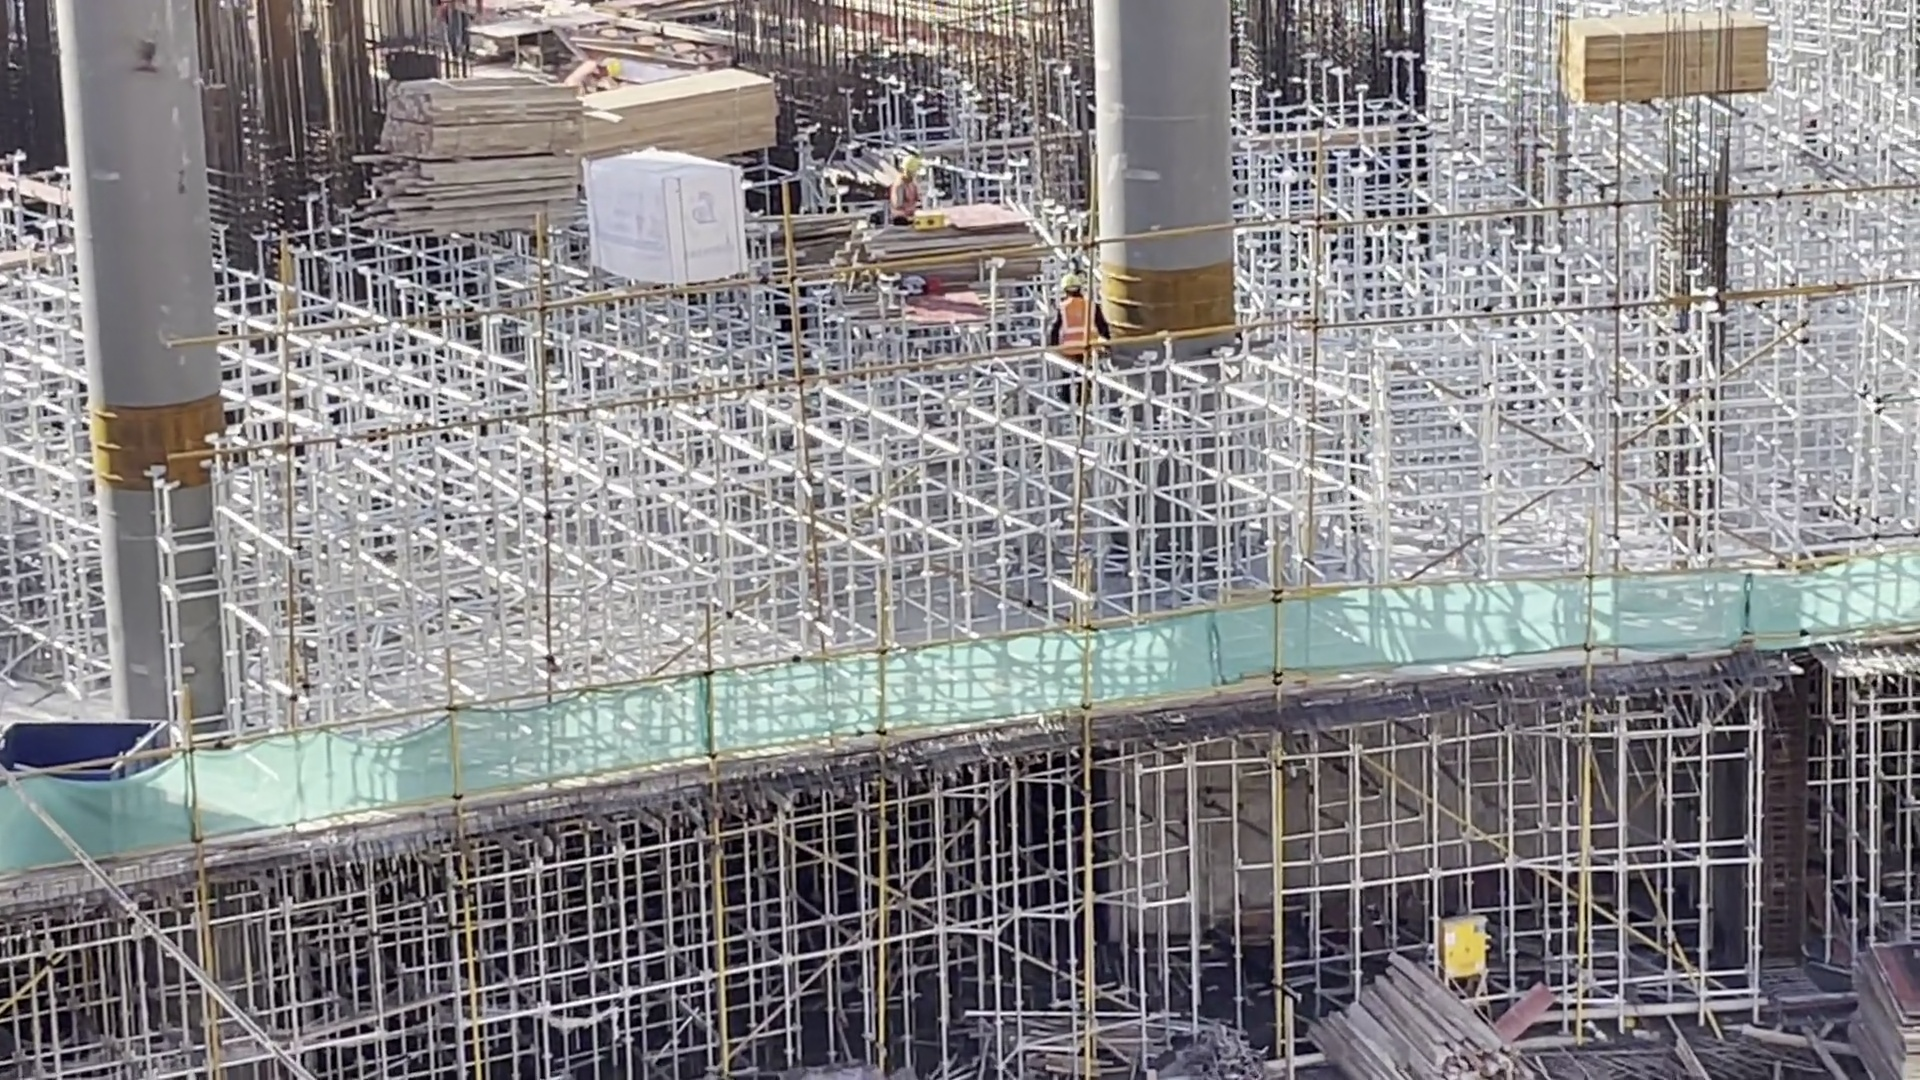board: (852, 200, 1041, 290), (1841, 939, 1920, 1078)
ebox: (1439, 913, 1496, 982)
helmet: (601, 56, 622, 79), (896, 155, 921, 175), (1060, 272, 1083, 291)
hopper: (1, 716, 173, 768)
person: (1048, 273, 1089, 344), (562, 54, 619, 95), (888, 156, 924, 218)
vest: (1058, 297, 1087, 345), (564, 60, 603, 90), (892, 177, 917, 217)
wood: (347, 75, 582, 238), (1297, 952, 1531, 1080), (1555, 12, 1771, 104), (588, 60, 782, 156)
